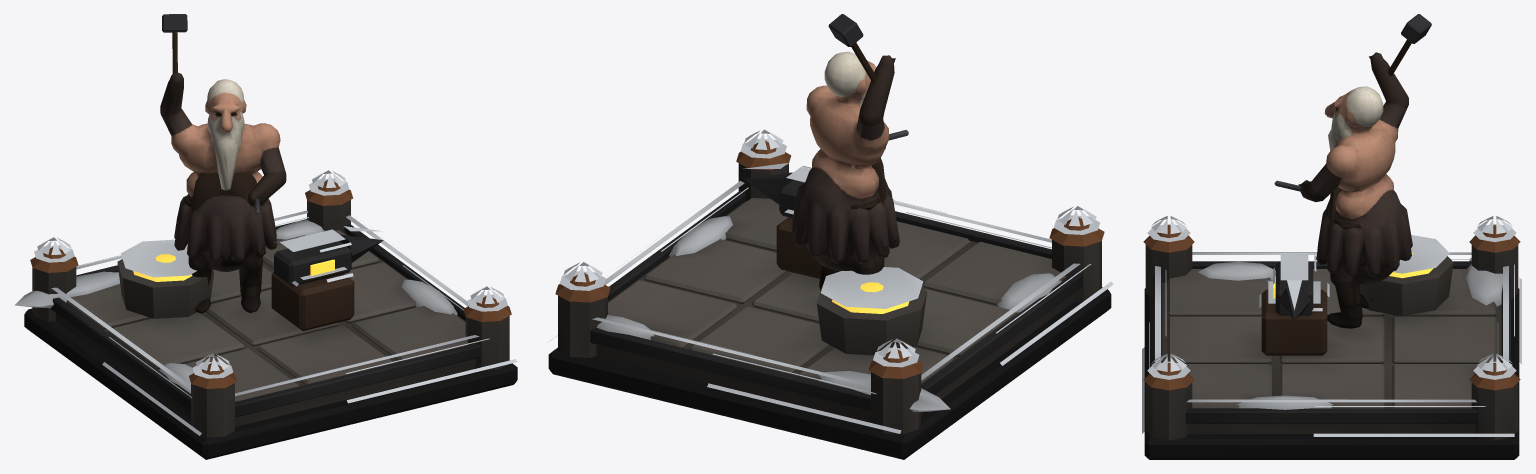
File: nains-7.glb
3 renders of one model, left to right at view 1: azimuth 30°, elevation 25°; view 2: azimuth 150°, elevation 25°; view 3: azimuth 270°, elevation 25°, orthographic. The views are drawn at different scales.
Parts seen in each view (by area): view 1: hautroc_7_architecture, hautroc_7_forgeron, hautroc_7_forgeron_accessoires; view 2: hautroc_7_architecture, hautroc_7_forgeron, hautroc_7_forgeron_accessoires, Braises; view 3: hautroc_7_architecture, hautroc_7_forgeron, hautroc_7_forgeron_accessoires.
Boxes of the visible parts, x1,y1,x2,y2 form: hautroc_7_architecture: (15, 170, 517, 459); hautroc_7_forgeron: (160, 72, 286, 313); hautroc_7_forgeron_accessoires: (162, 14, 267, 214); hautroc_7_architecture: (548, 129, 1113, 459); hautroc_7_forgeron: (791, 51, 899, 291); hautroc_7_forgeron_accessoires: (828, 14, 908, 209); Braises: (832, 282, 909, 313); hautroc_7_architecture: (1142, 216, 1521, 459); hautroc_7_forgeron: (1298, 52, 1412, 328); hautroc_7_forgeron_accessoires: (1274, 14, 1431, 229).
Size of the model in its own units: 0.8655 by 0.7934 by 0.811.
Materials: 4 (1 with a texture image).
